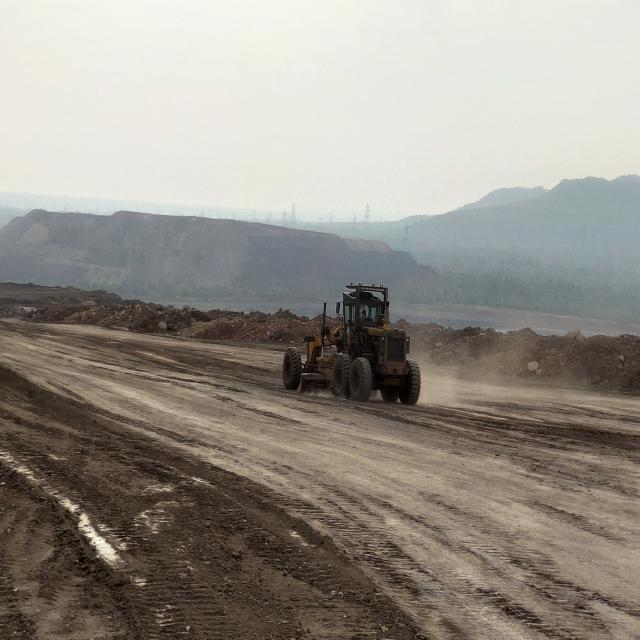buldozerpayloadergrader: (282, 283, 421, 405)
